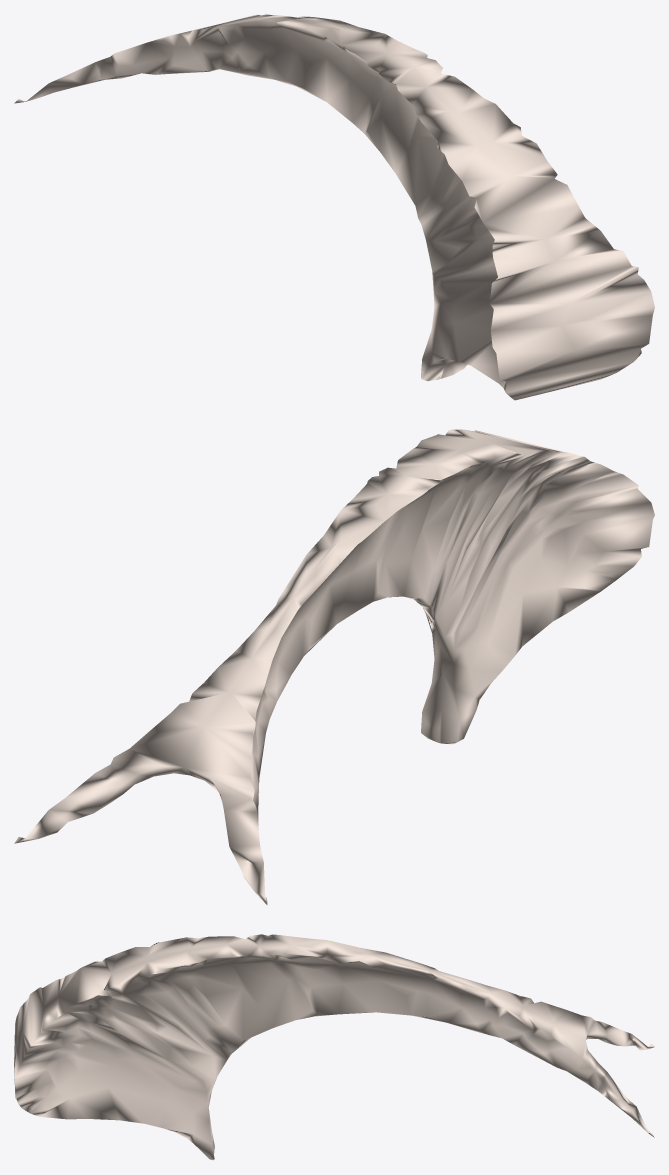
The model's file is nervoso-septum-pellucidum.glb.
3 views of the same model, one above another, from view 1: azimuth 30°, elevation 25°; view 2: azimuth 150°, elevation 25°; view 3: azimuth 270°, elevation 25° (orthographic). The views are drawn at different scales.
Visible parts, largest first — view 1: Septum pellucidum; view 2: Septum pellucidum; view 3: Septum pellucidum.
Part boxes in pixels (box(x1,y1,x2,y2)): Septum pellucidum: box(14, 14, 654, 400); Septum pellucidum: box(14, 429, 654, 904); Septum pellucidum: box(14, 934, 654, 1160).
Size of the model in its own units: 0.0204 by 0.0222 by 0.0607.
